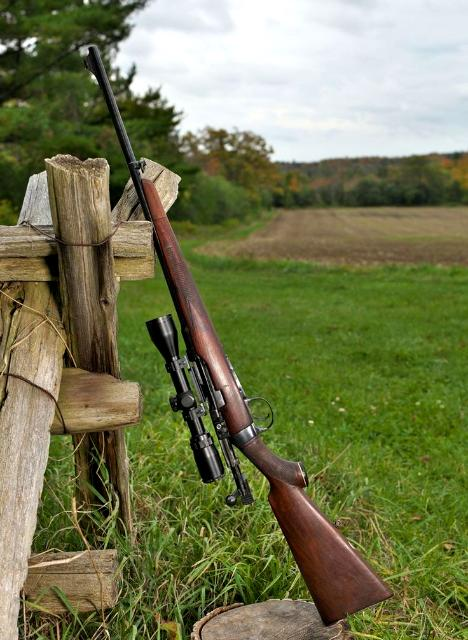rifle: (79, 48, 402, 626)
